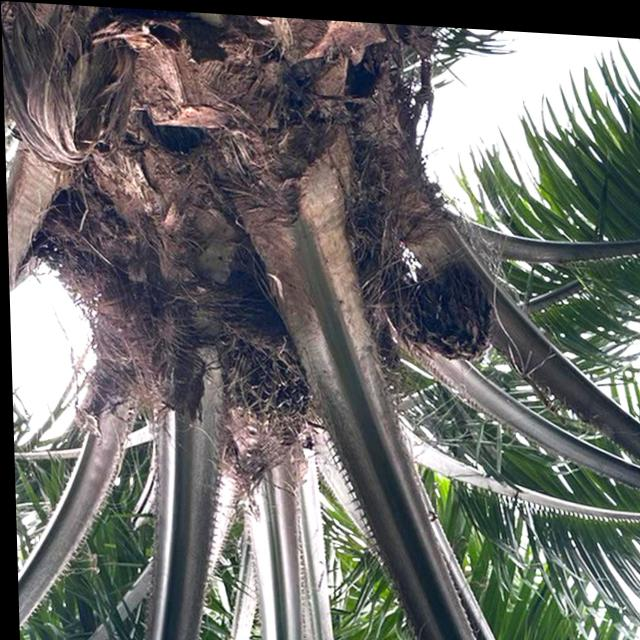unripe: (205, 299, 317, 430)
